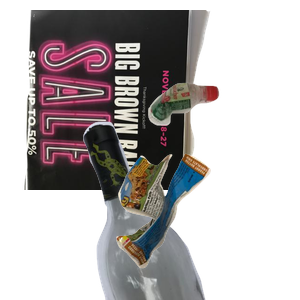glass: (81, 120, 300, 300)
paper: (22, 10, 225, 190)
plastic: (146, 80, 300, 198)
trash: (114, 151, 300, 300)
